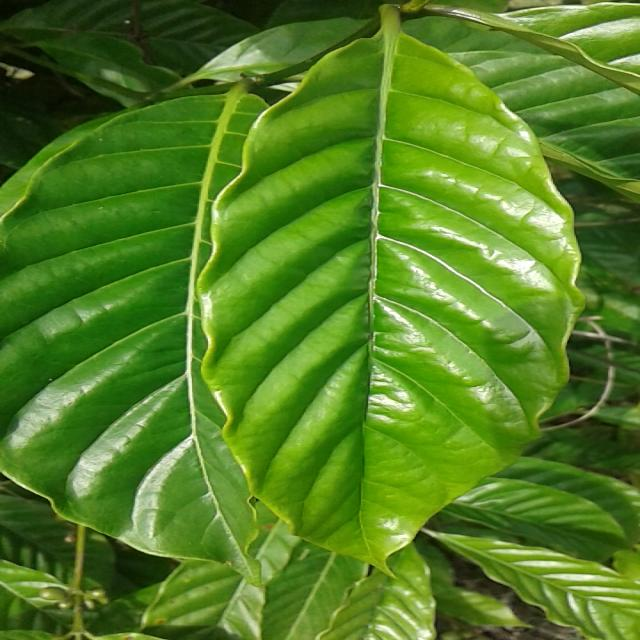Sanas: (199, 34, 578, 570)
